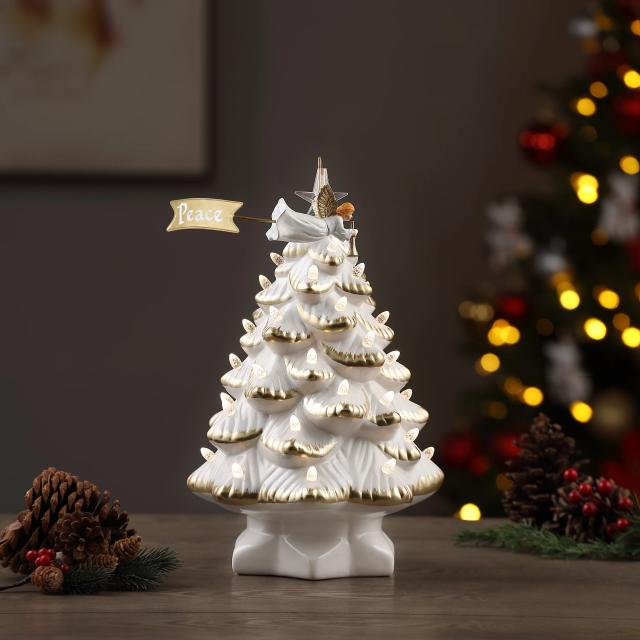Christmas-tree: (188, 154, 457, 518)
